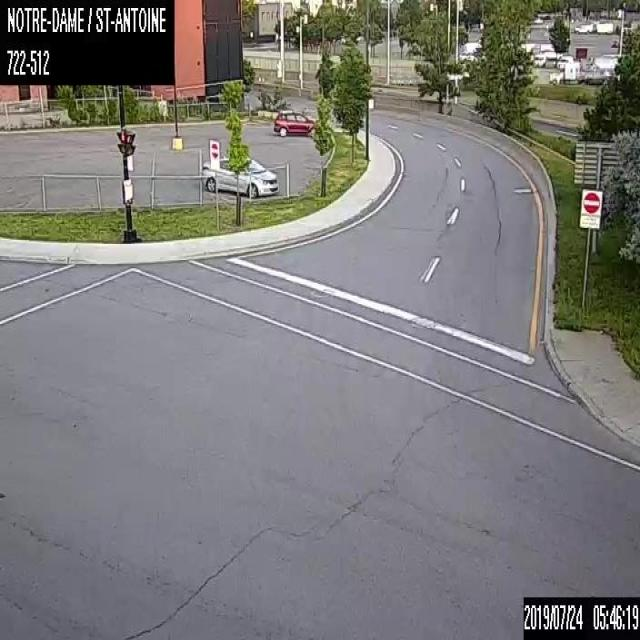vehicle: (202, 154, 278, 197), (273, 111, 316, 137)
